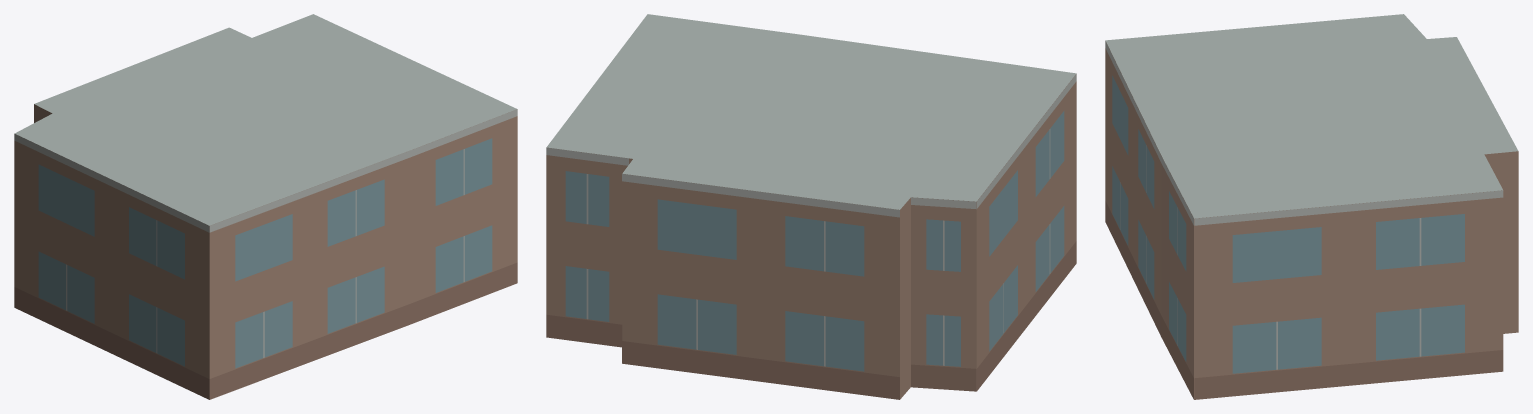
The model's file is survey-upis-32644405.glb.
The picture shows the model from 3 angles, left to right: view 1: azimuth 30°, elevation 25°; view 2: azimuth 150°, elevation 25°; view 3: azimuth 270°, elevation 25°; orthographic projection. The views are drawn at different scales.
Parts seen in each view (by area): view 1: survey-upis-32644405.tmp; view 2: survey-upis-32644405.tmp; view 3: survey-upis-32644405.tmp.
Boxes of the visible parts, x1,y1,x2,y2 form: survey-upis-32644405.tmp: (14,14,517,399); survey-upis-32644405.tmp: (546,14,1076,399); survey-upis-32644405.tmp: (1105,14,1518,399).
Size of the model in its own units: 14.77 by 6.1 by 12.61.
